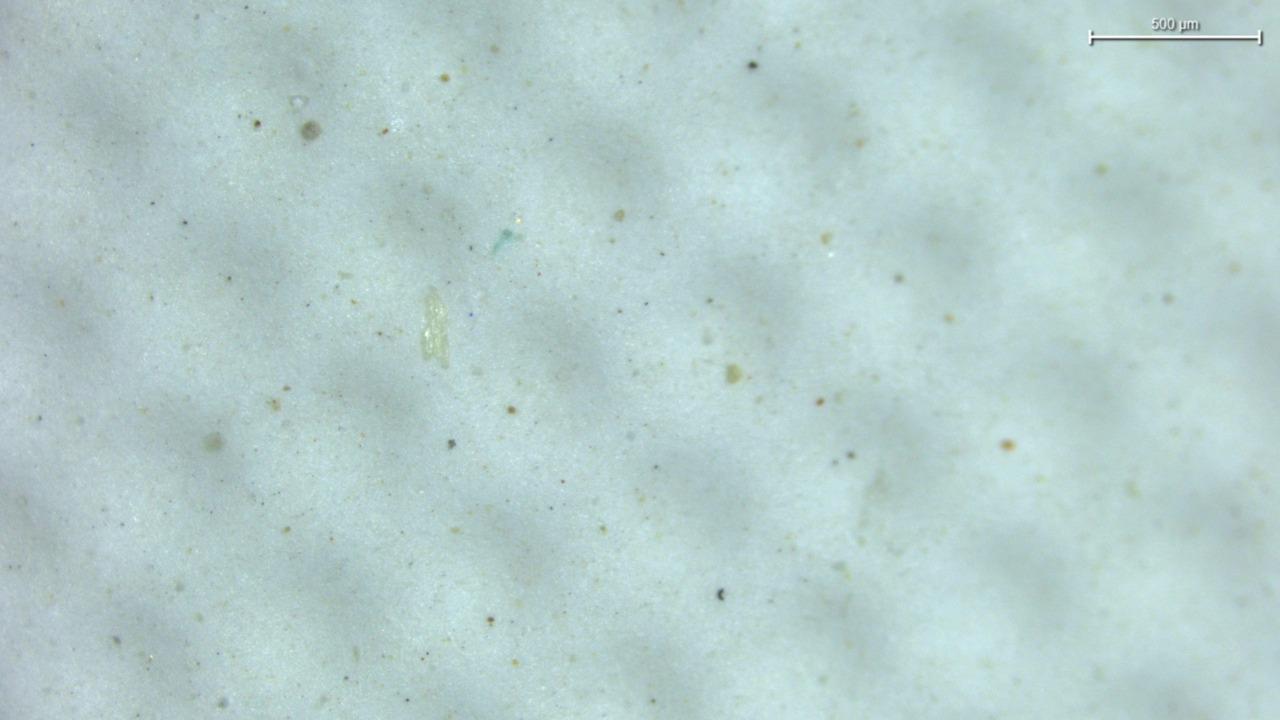microplastic_fragment: (419, 286, 449, 367)
